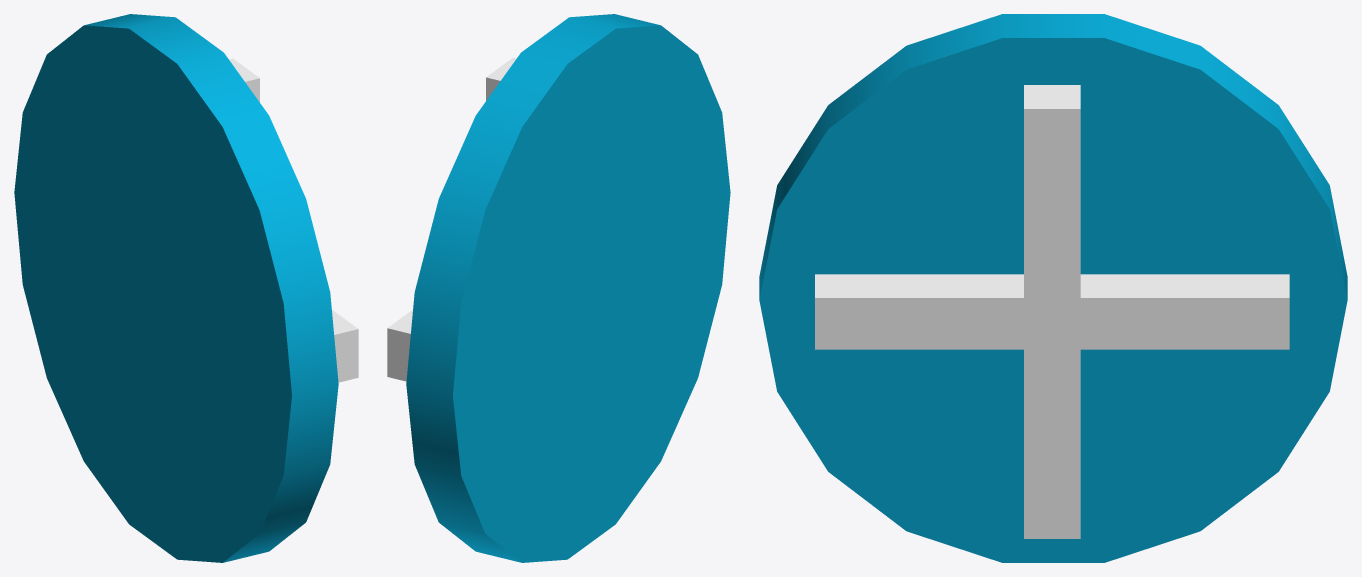
Rendered from IconPlusBlue.FBX.
3 renders of one model, left to right at view 1: azimuth 30°, elevation 25°; view 2: azimuth 150°, elevation 25°; view 3: azimuth 270°, elevation 25°, orthographic. The views are drawn at different scales.
Parts seen in each view (by area): view 1: Cylinder001, Object_1; view 2: Cylinder001, Object_1; view 3: Cylinder001, Object_1.
Part boxes in pixels (bbox=[...]): Cylinder001: bbox=[14, 14, 338, 562]; Object_1: bbox=[229, 58, 358, 382]; Cylinder001: bbox=[406, 14, 730, 562]; Object_1: bbox=[387, 58, 516, 381]; Cylinder001: bbox=[759, 14, 1347, 562]; Object_1: bbox=[815, 85, 1289, 538].
Bounding box in the file's own units: 19.94 × 102 × 103.
